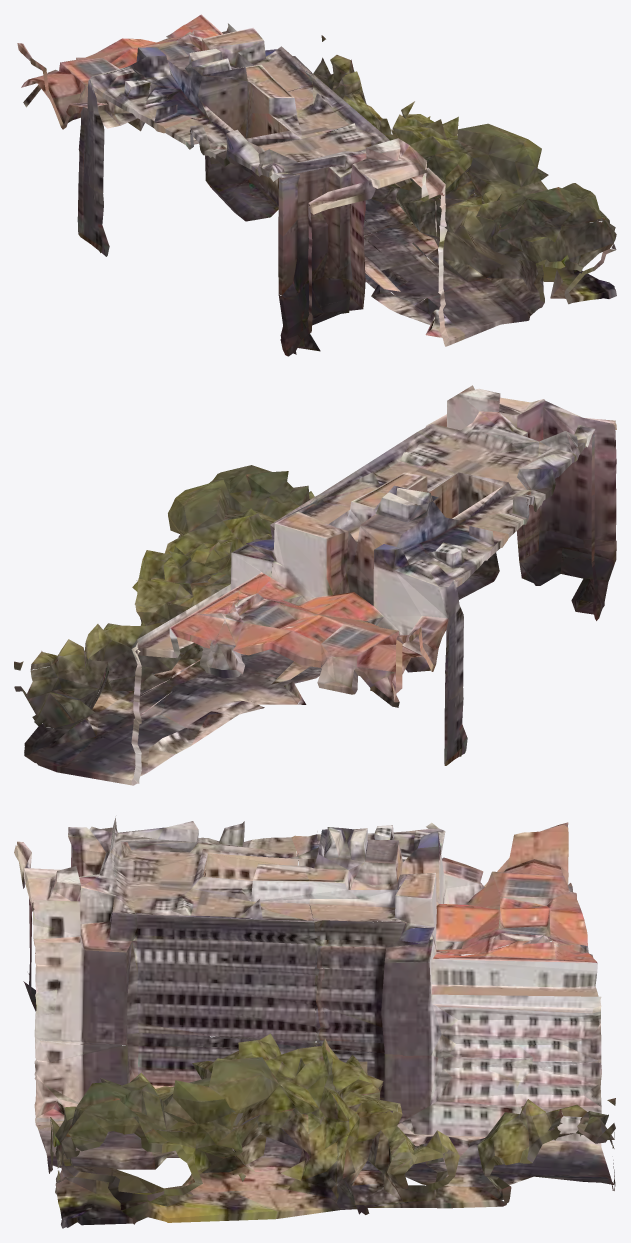
The picture shows the model from 3 angles, top to bottom: view 1: azimuth 30°, elevation 25°; view 2: azimuth 150°, elevation 25°; view 3: azimuth 270°, elevation 25°; orthographic projection. The views are drawn at different scales.
Visible parts, largest first — view 1: Mesh_0; view 2: Mesh_0; view 3: Mesh_0.
Boxes of the visible parts, left/top/right/bottom form: Mesh_0: left=17, top=14, right=616, bottom=356; Mesh_0: left=14, top=385, right=616, bottom=785; Mesh_0: left=14, top=818, right=615, bottom=1228.
Bounding box in the file's own units: 67.23 × 36.93 × 82.78.
Materials: 1 (1 with a texture image).
